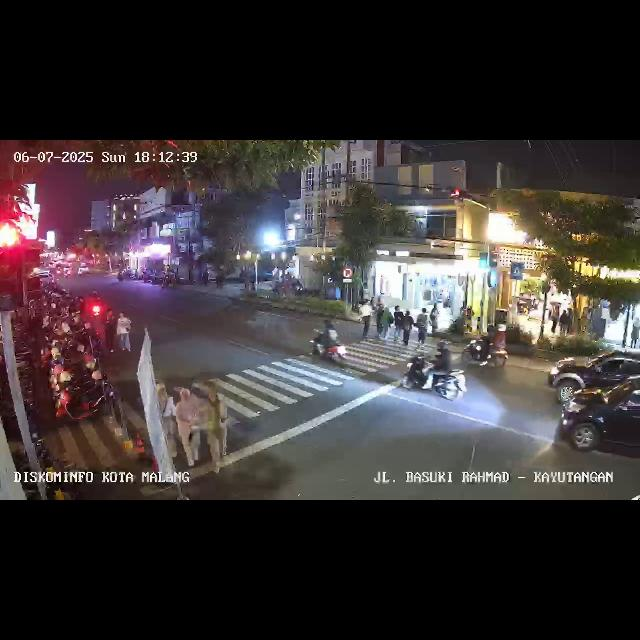car: (557, 379, 639, 469), (548, 349, 640, 405), (26, 267, 54, 285)
motorcycle: (400, 344, 470, 401), (308, 320, 348, 368), (464, 331, 508, 369)
person: (172, 388, 204, 468), (155, 382, 177, 462), (206, 388, 228, 468), (115, 310, 134, 356), (97, 308, 113, 354), (361, 302, 373, 342), (374, 303, 386, 341), (401, 309, 413, 346), (416, 308, 428, 344), (381, 306, 394, 339), (394, 305, 404, 343), (429, 303, 439, 335), (549, 302, 559, 334), (560, 304, 570, 336), (630, 317, 640, 348)
